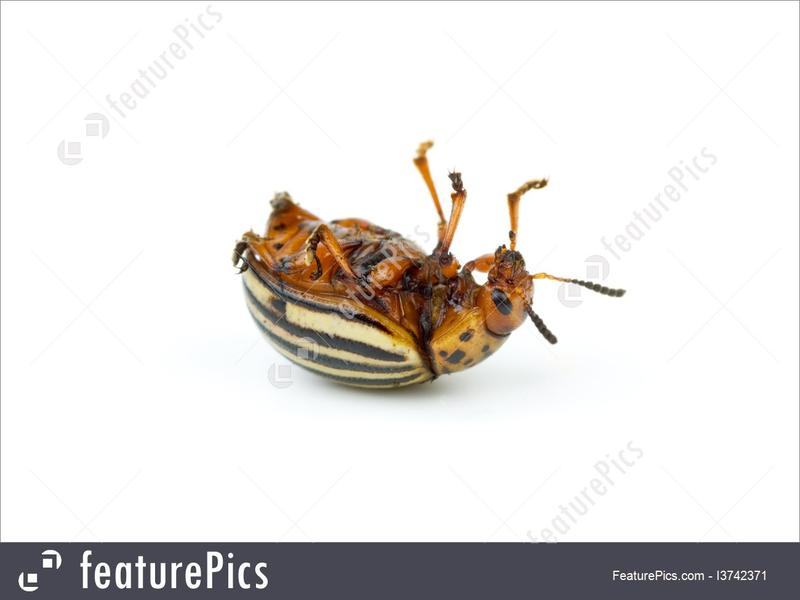hrosc: (244, 177, 557, 403)
